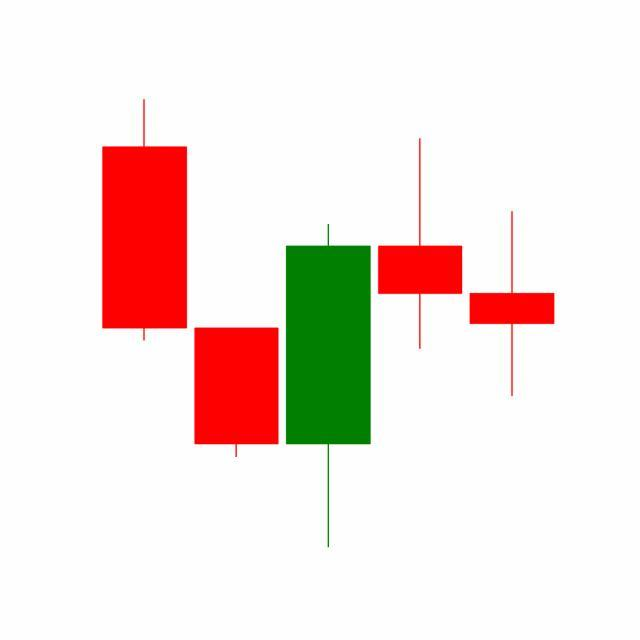Spinning Top: (466, 209, 559, 399)
